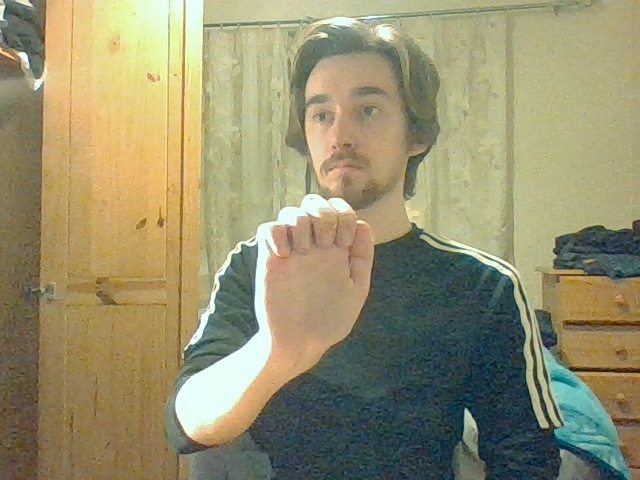your: (255, 193, 374, 342)
